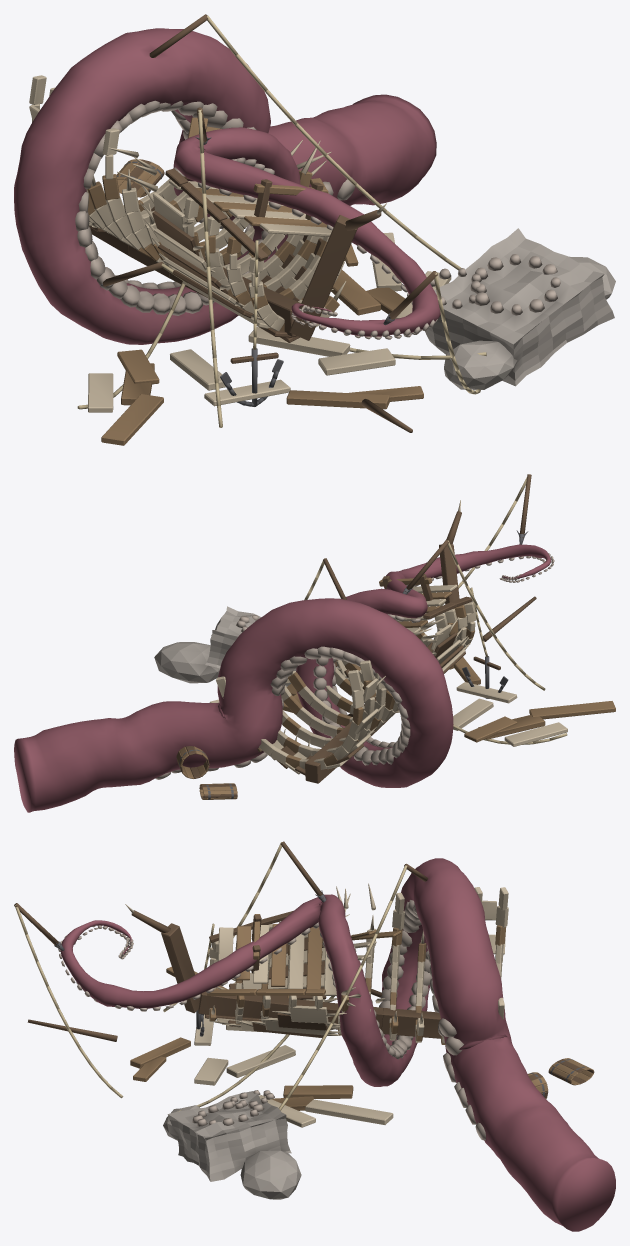
The model's file is kraken_wreck.0fe903b7.glb.
3 views of the same model, one above another, from view 1: azimuth 30°, elevation 25°; view 2: azimuth 150°, elevation 25°; view 3: azimuth 270°, elevation 25° (orthographic). The views are drawn at different scales.
Visible parts, largest first — view 1: kraken_wreck; view 2: kraken_wreck; view 3: kraken_wreck.
Boxes of the visible parts, x1,y1,x2,y2 form: kraken_wreck: [14, 14, 615, 445]; kraken_wreck: [14, 474, 615, 812]; kraken_wreck: [14, 841, 615, 1231].
Size of the model in its own units: 21.82 by 11.95 by 25.56.
